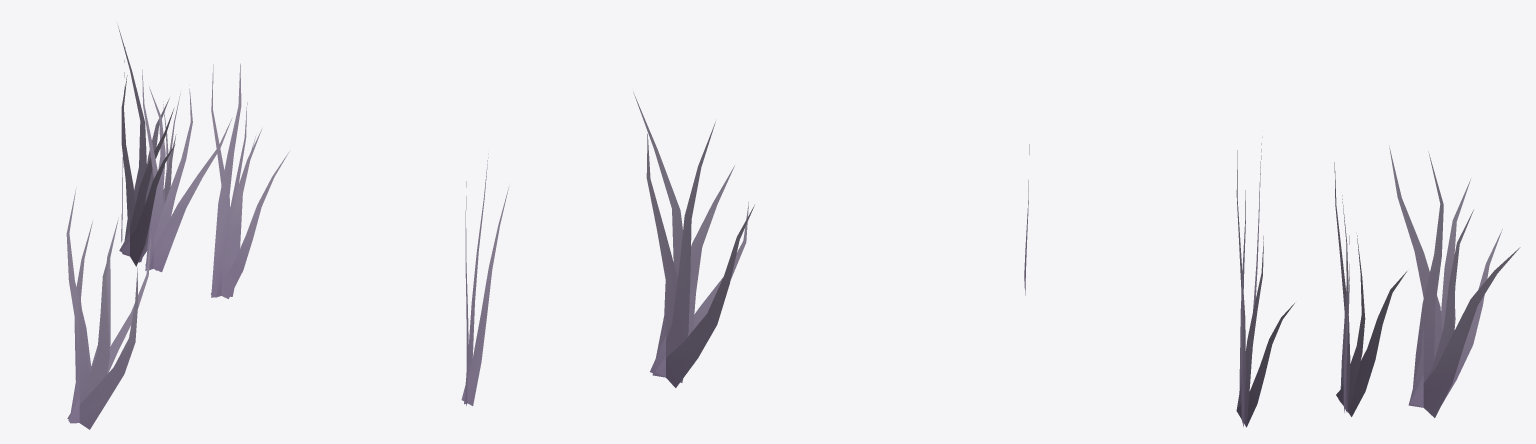
The model's file is mesh-plant-027-bronze-fan_LOD1.glb.
3 renders of one model, left to right at view 1: azimuth 30°, elevation 25°; view 2: azimuth 150°, elevation 25°; view 3: azimuth 270°, elevation 25°, orthographic. The views are drawn at different scales.
Visible parts, largest first — view 1: geometry_0; view 2: geometry_0; view 3: geometry_0.
Boxes of the visible parts, x1=… form: geometry_0: x1=66, y1=26, x2=289, y2=429; geometry_0: x1=461, y1=92, x2=754, y2=405; geometry_0: x1=1024, y1=137, x2=1520, y2=427.
Size of the model in its own units: 1.29 by 0.9635 by 1.69.
